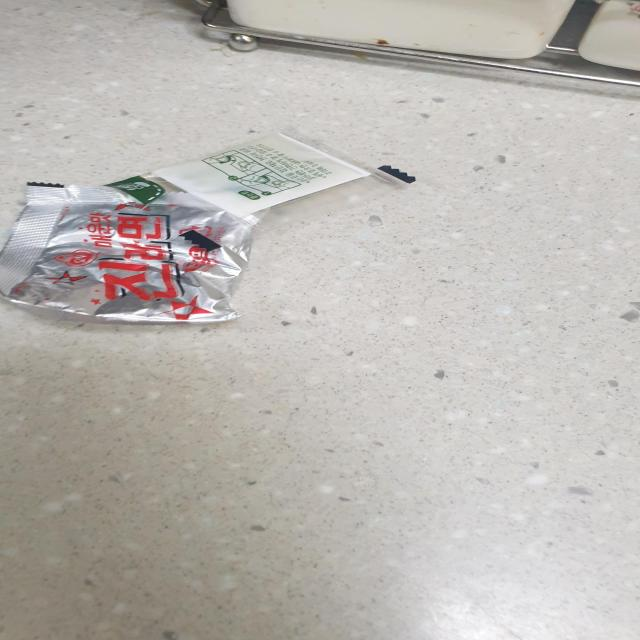litter: (0, 128, 419, 326)
